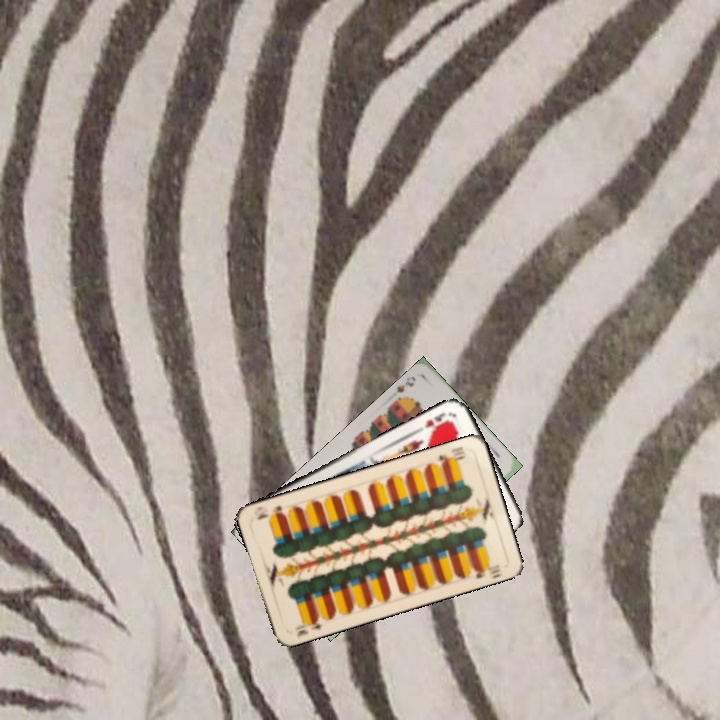E10: (292, 612, 324, 639), (435, 442, 468, 468)
HK: (415, 408, 455, 434)
S9: (389, 372, 419, 407)
